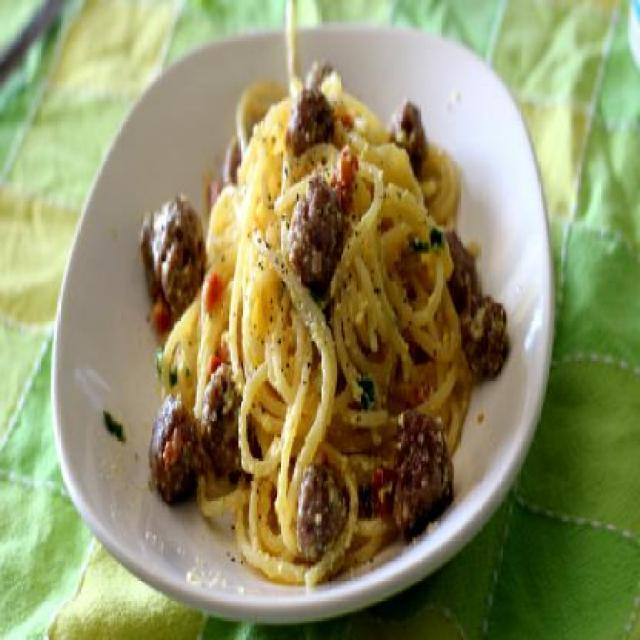Pasta with carbonara sauce: (95, 25, 560, 587)
